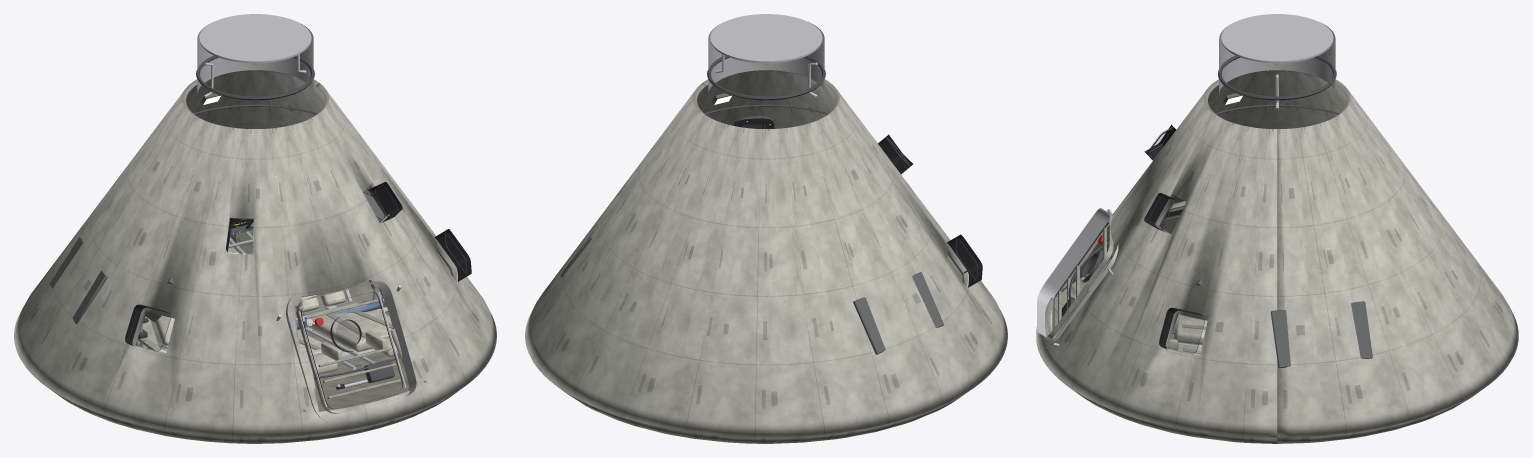
The model's file is cm-interior.glb.
3 views of the same model, side by side, from view 1: azimuth 30°, elevation 25°; view 2: azimuth 150°, elevation 25°; view 3: azimuth 270°, elevation 25° (orthographic).
Visible parts, largest first — view 1: cabin-shell-outer, cabin-shell-geo, forward-hatch-geo, couch-LMP-geo, hatch-inner-geo, window-glass-geo, couch-CMP-geo, cb-8-geo, couch-CDR-geo, wall-stringers-geo; view 2: cabin-shell-outer, cabin-shell-geo, forward-hatch-geo, cb-8-geo, window-glass-geo; view 3: cabin-shell-outer, cabin-shell-geo, forward-hatch-geo, window-glass-geo, hatch-inner-geo, cb-5-geo, couch-CMP-geo, wall-stringers-geo.
Boxes of the visible parts, left/top/right/bottom form: cabin-shell-outer: left=14, top=79, right=496, bottom=443; cabin-shell-geo: left=125, top=24, right=471, bottom=421; forward-hatch-geo: left=199, top=14, right=311, bottom=64; couch-LMP-geo: left=243, top=231, right=399, bottom=364; hatch-inner-geo: left=296, top=292, right=406, bottom=413; window-glass-geo: left=127, top=183, right=468, bottom=351; couch-CMP-geo: left=226, top=237, right=356, bottom=375; cb-8-geo: left=49, top=237, right=107, bottom=323; couch-CDR-geo: left=135, top=315, right=174, bottom=352; wall-stringers-geo: left=193, top=104, right=437, bottom=378; cabin-shell-outer: left=525, top=71, right=1007, bottom=443; cabin-shell-geo: left=601, top=24, right=982, bottom=339; forward-hatch-geo: left=710, top=14, right=822, bottom=64; cb-8-geo: left=853, top=272, right=943, bottom=354; window-glass-geo: left=891, top=143, right=979, bottom=281; cabin-shell-outer: left=1036, top=71, right=1518, bottom=443; cabin-shell-geo: left=1037, top=23, right=1440, bottom=354; forward-hatch-geo: left=1221, top=14, right=1333, bottom=64; window-glass-geo: left=1146, top=129, right=1204, bottom=353; hatch-inner-geo: left=1046, top=213, right=1113, bottom=338; cb-5-geo: left=1270, top=301, right=1372, bottom=368; couch-CMP-geo: left=1172, top=314, right=1207, bottom=346; wall-stringers-geo: left=1068, top=104, right=1339, bottom=310.
Size of the model in its own units: 3.48 by 2.79 by 3.48.
18 materials, 6 textured.
